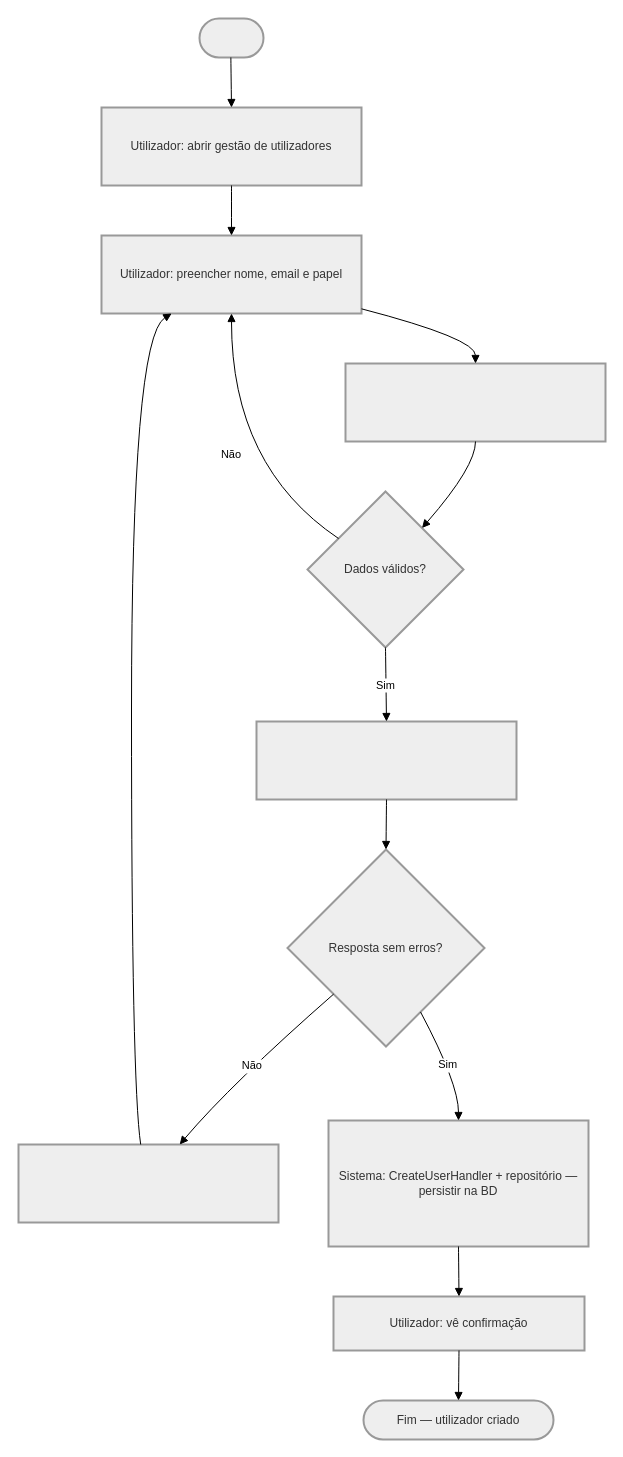
Image size: 623x1457. Some labels were removed from this diagram. The box of each missing label's shape, as (x1, y1, x2, y2) in pixels:
Início: (198, 17, 264, 58)
Sistema: enviar mutation GraphQL createUser: (255, 720, 517, 800)
Utilizador: confirmar criação: (344, 362, 606, 442)
Utilizador: ver mensagem de erro: (17, 1143, 279, 1223)
